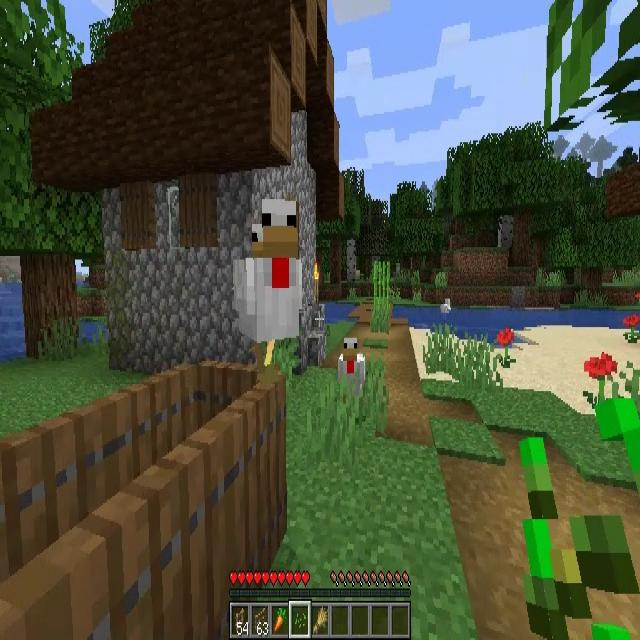duck: (233, 197, 299, 368), (337, 336, 365, 396), (439, 296, 452, 322)
